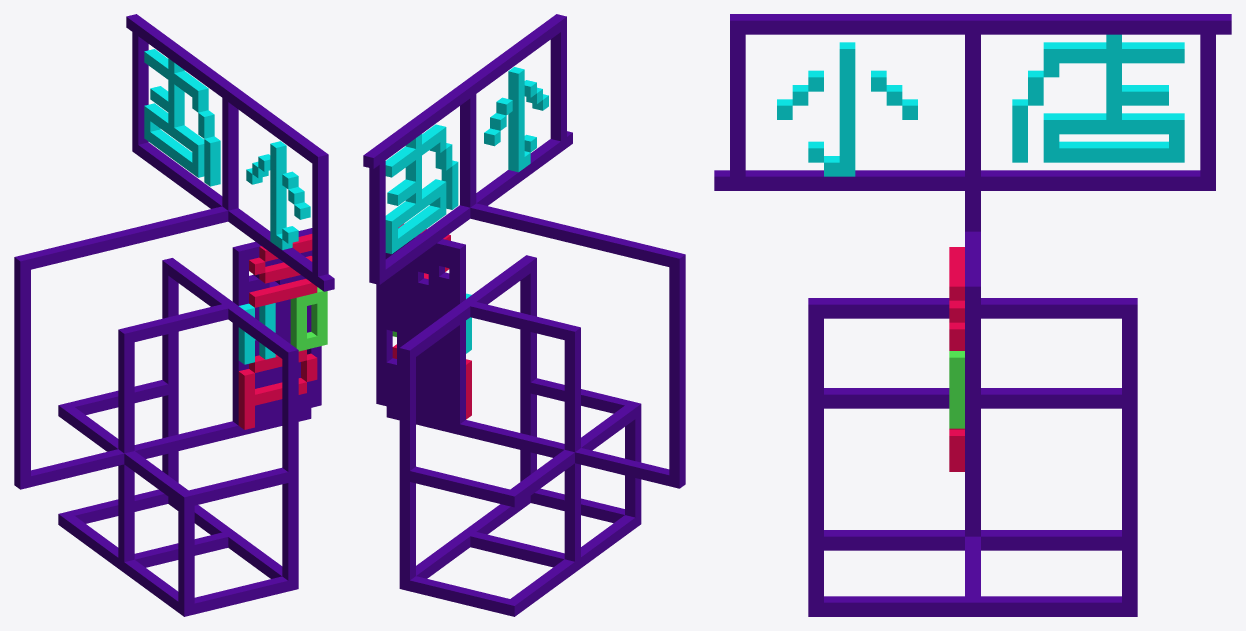
Rendered from city_house_0.cube.obj.
The picture shows the model from 3 angles, left to right: view 1: azimuth 30°, elevation 25°; view 2: azimuth 150°, elevation 25°; view 3: azimuth 270°, elevation 25°; orthographic projection. The views are drawn at different scales.
Size of the model in its own units: 29 by 42 by 33.
Materials: 1 (1 with a texture image).
